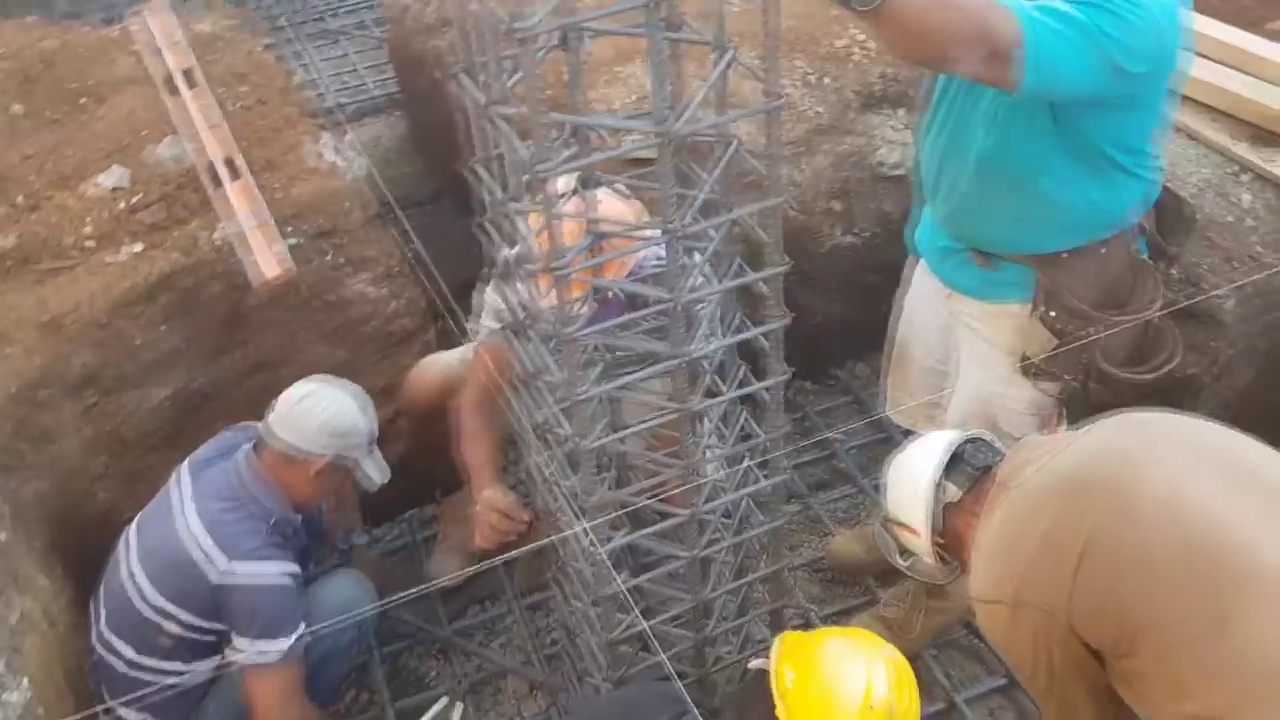helmet: (882, 433, 1014, 583), (518, 184, 652, 309), (766, 627, 929, 714)
helmet-off: (244, 374, 385, 539)
helmet-on: (682, 617, 934, 719), (518, 168, 672, 332), (873, 428, 1026, 582)
person: (834, 3, 1200, 437), (405, 167, 728, 588), (873, 407, 1273, 720), (82, 351, 394, 705)
